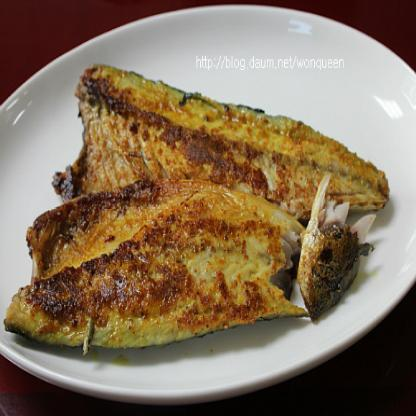Peixe: (8, 60, 379, 358)
